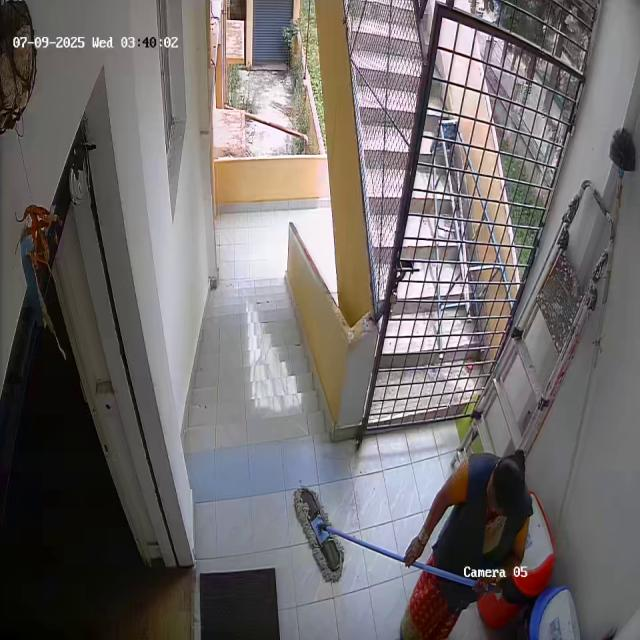person: (432, 451, 530, 640)
